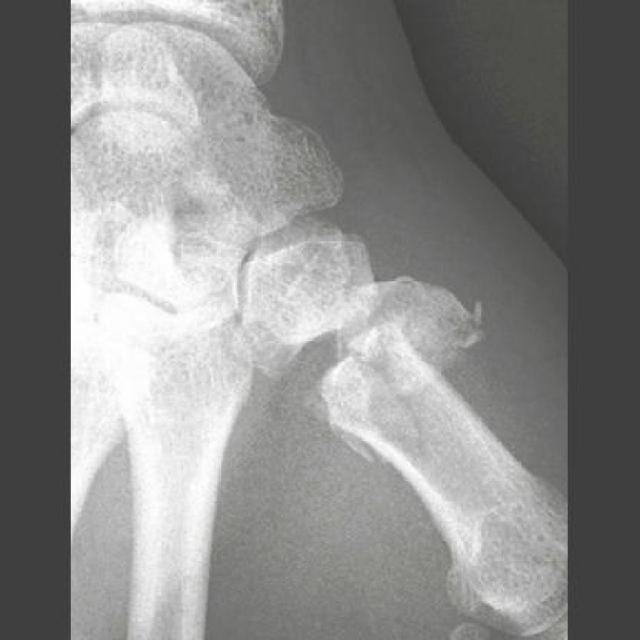Fracture: (308, 275, 497, 463)
